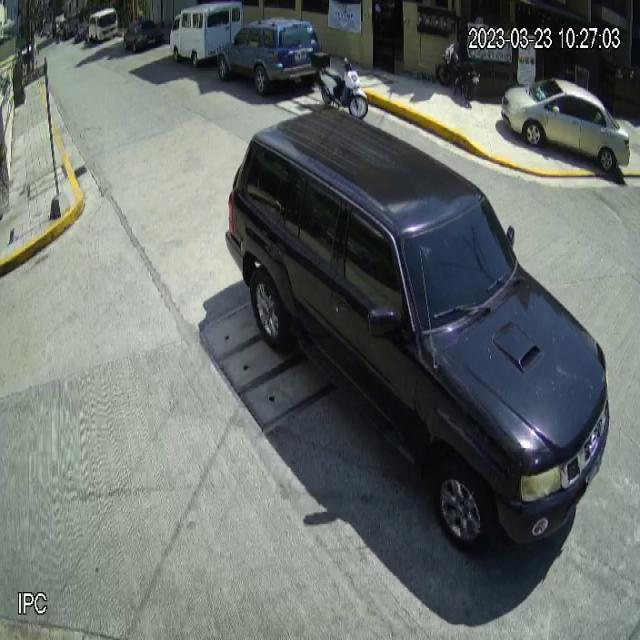Car: (224, 106, 609, 557), (501, 76, 631, 171), (219, 15, 325, 94)
Motorcycle: (312, 48, 369, 120)
Van: (169, 2, 244, 69)
